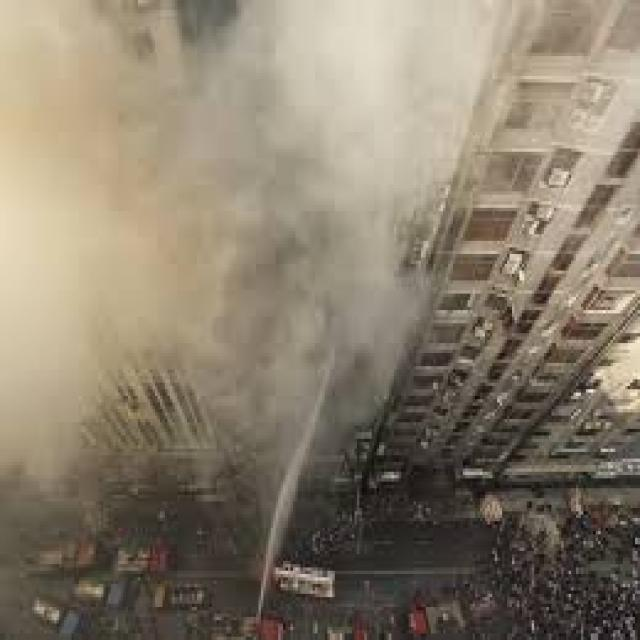Smoke: (189, 0, 461, 423), (0, 0, 200, 504)
